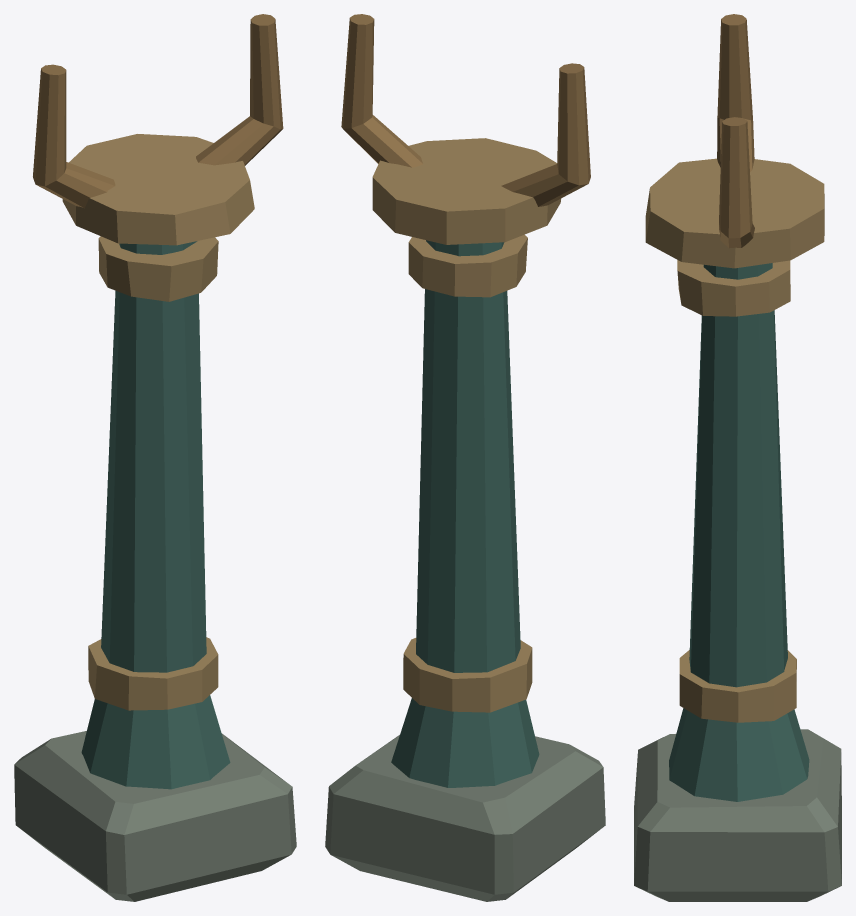
Rendered from lantern_post.glb.
3 views of the same model, side by side, from view 1: azimuth 30°, elevation 25°; view 2: azimuth 150°, elevation 25°; view 3: azimuth 270°, elevation 25° (orthographic). The views are drawn at different scales.
Parts seen in each view (by area): view 1: lantern_post; view 2: lantern_post; view 3: lantern_post.
Boxes of the visible parts, <box> form: lantern_post: <box>14,14,296,901</box>; lantern_post: <box>325,14,605,901</box>; lantern_post: <box>634,14,841,901</box>.
Bounding box in the file's own units: 0.4668 × 1.48 × 0.35.
